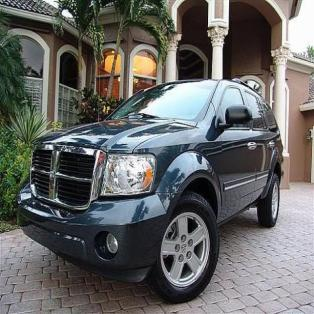Auto: (15, 78, 284, 304)
